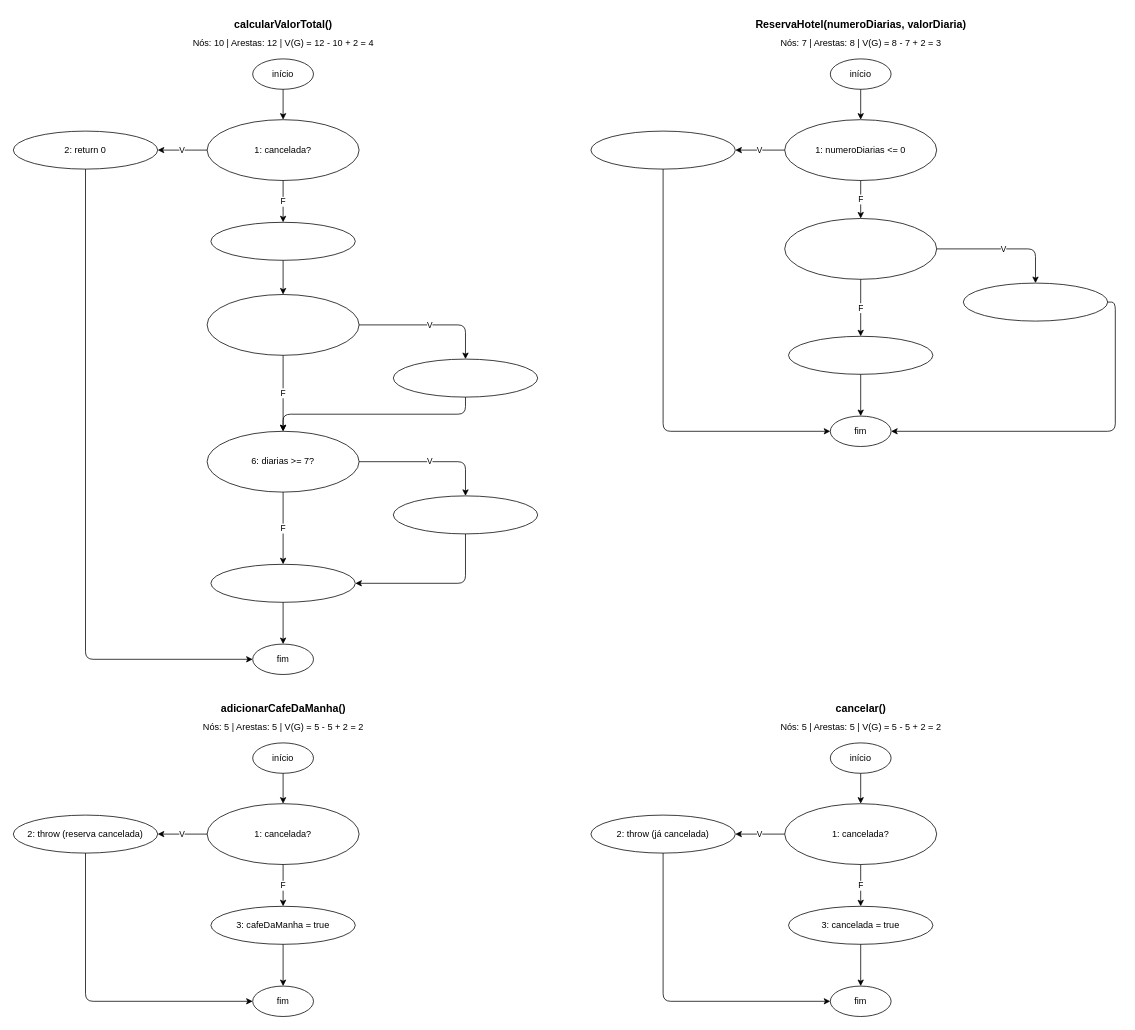
This 1135x1030 diagram has some shape labels left out. Each missing label, with the centre of its shape:
2: throw (diárias inválidas): point 662,149
3: total = diarias * valor: point 282,241
3: valorDiaria <= 0: point 860,248
4: cafeDaManha?: point 282,324
4: throw (valor inválido): point 1035,301
5: atribui os campos: point 860,355
5: total += diarias * 30: point 465,377
7: total = total * 0.90: point 465,514
8: return total: point 282,583
